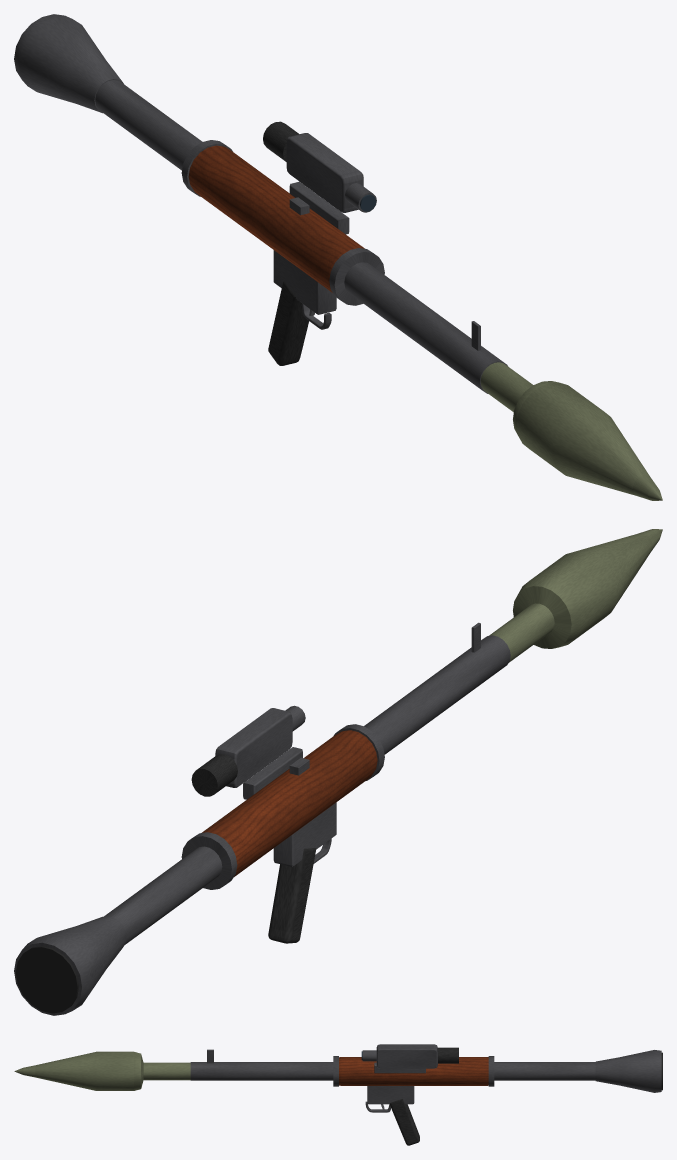
The model's file is rpg.glb.
3 renders of one model, top to bottom at view 1: azimuth 30°, elevation 25°; view 2: azimuth 150°, elevation 25°; view 3: azimuth 270°, elevation 25°, orthographic. The views are drawn at different scales.
Parts seen in each view (by area): view 1: model, warhead; view 2: model, warhead; view 3: model, warhead.
Part boxes in pixels (left/top/right/bottom): model: left=14, top=14, right=507, bottom=393; warhead: left=480, top=362, right=662, bottom=500; model: left=14, top=622, right=510, bottom=1015; warhead: left=489, top=529, right=662, bottom=662; model: left=190, top=1044, right=662, bottom=1145; warhead: left=14, top=1051, right=190, bottom=1090.
Bounding box in the file's own units: 0.109 × 0.2497 × 1.38.
Materials: 8 (6 with a texture image).
